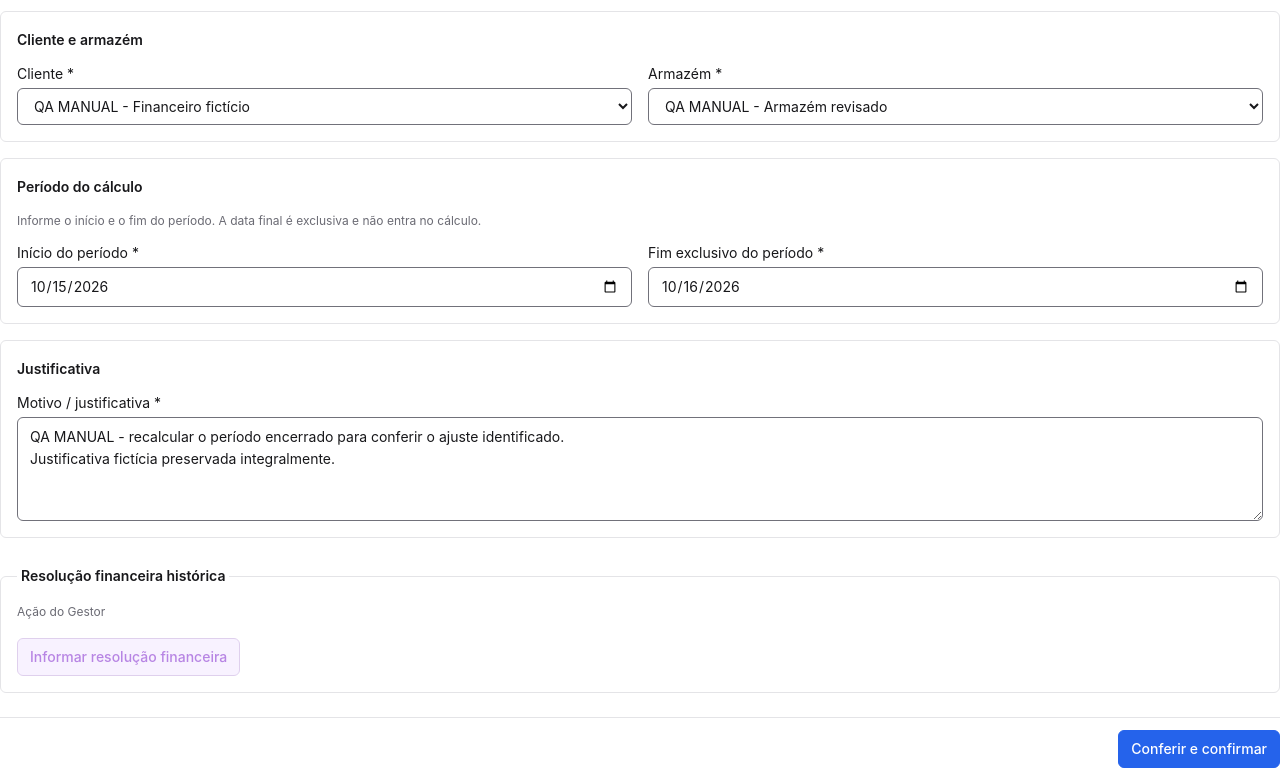
Test: Supervisor calcula sem herdar resolução do Gestor e preserva dados após recusa
(page scrolled)
Expected: the button "Informar resolução financeira" is disabled, [17,638,240,676]
Click the button "Conferir e confirmar": (1199, 749) [1118,730,1279,768]
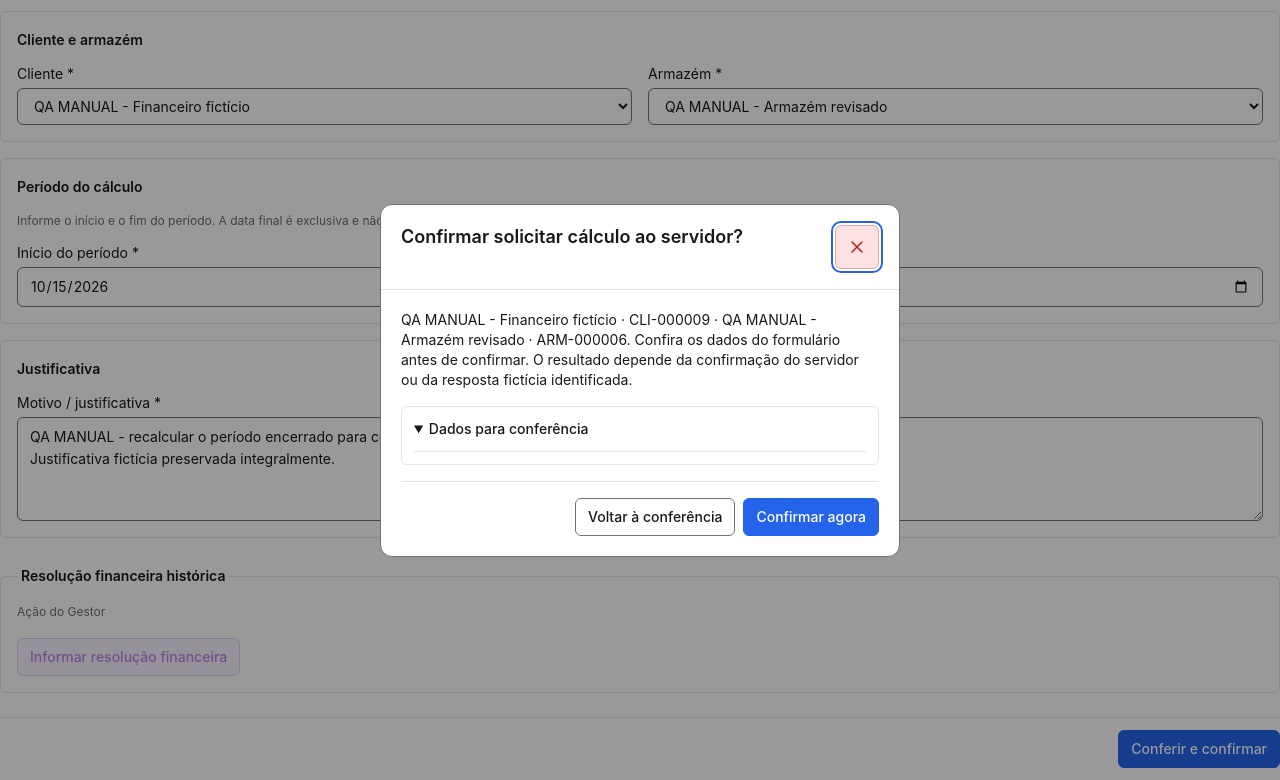
Click the button "Confirmar agora": (811, 516) [744,498,879,536]
(page scrolled)
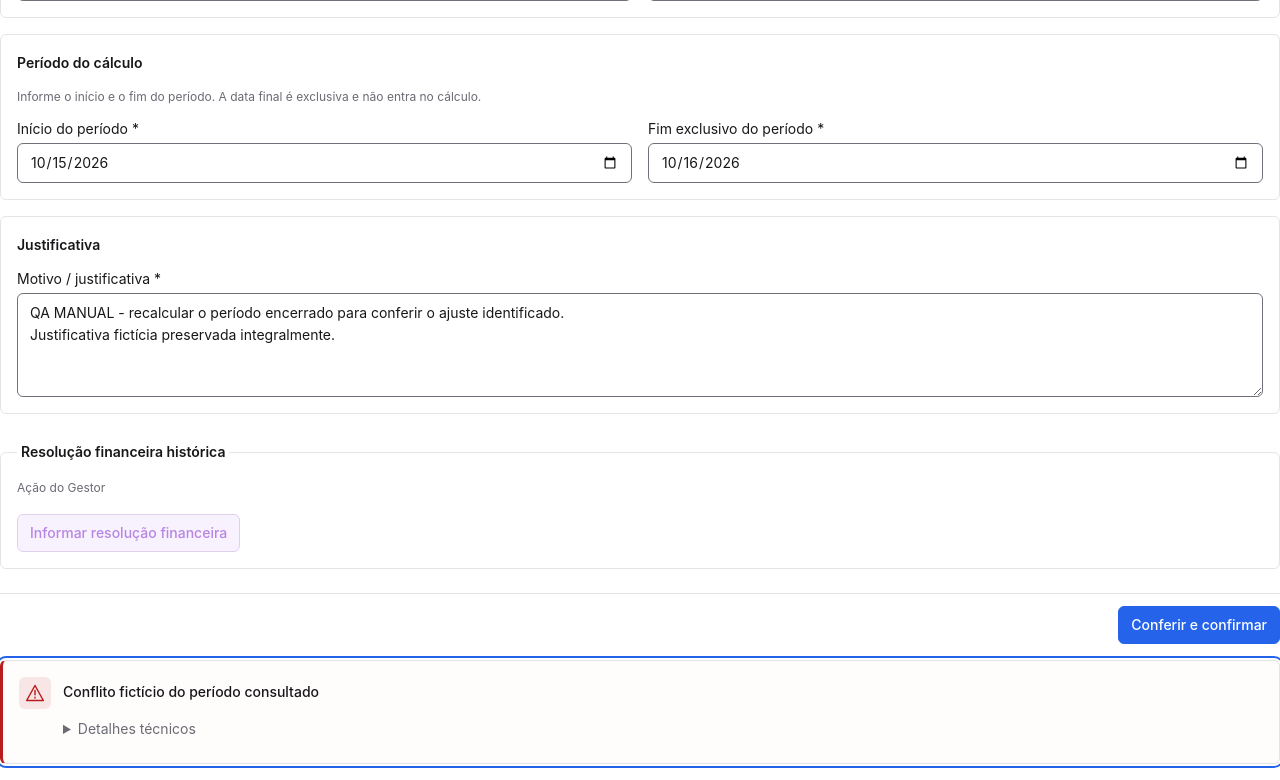
Expected: the text box labelled "Motivo / justificativa *" is enabled, [17,293,1263,397]
Expected: the text "Conflito fictício do período consultado" is shown, [63,683,319,700]
